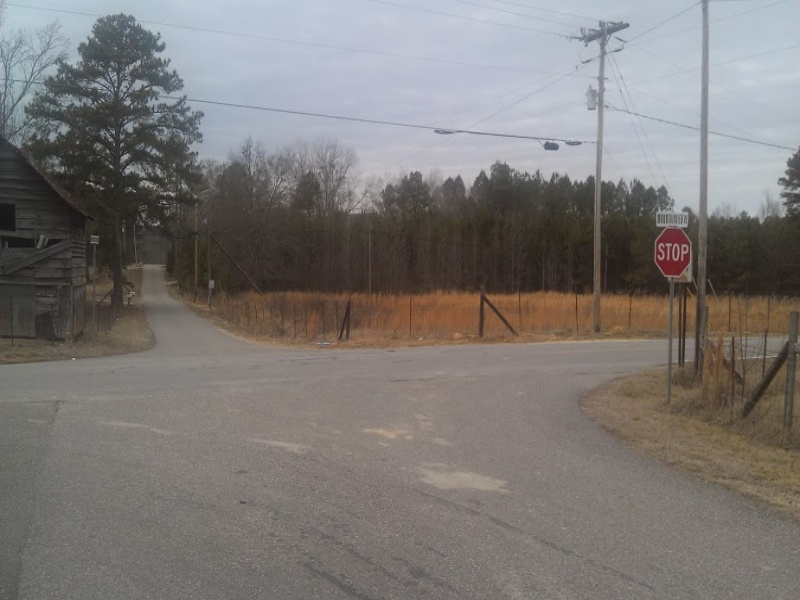stop sign: (652, 227, 693, 281)
